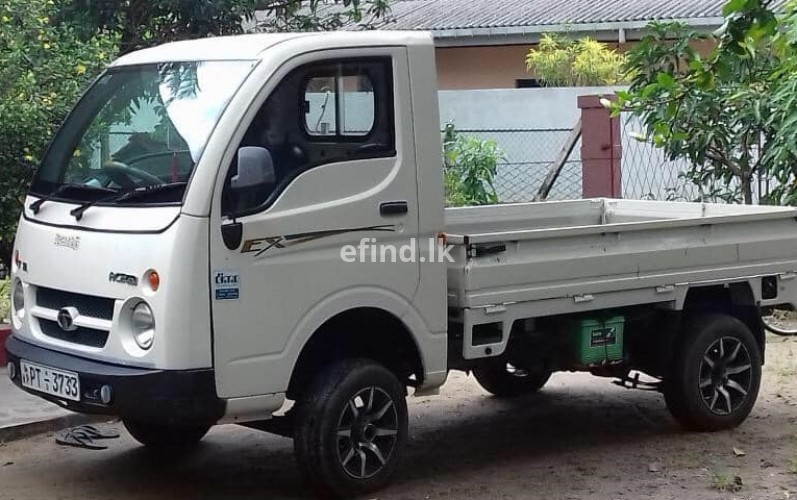truck: (7, 31, 797, 496)
